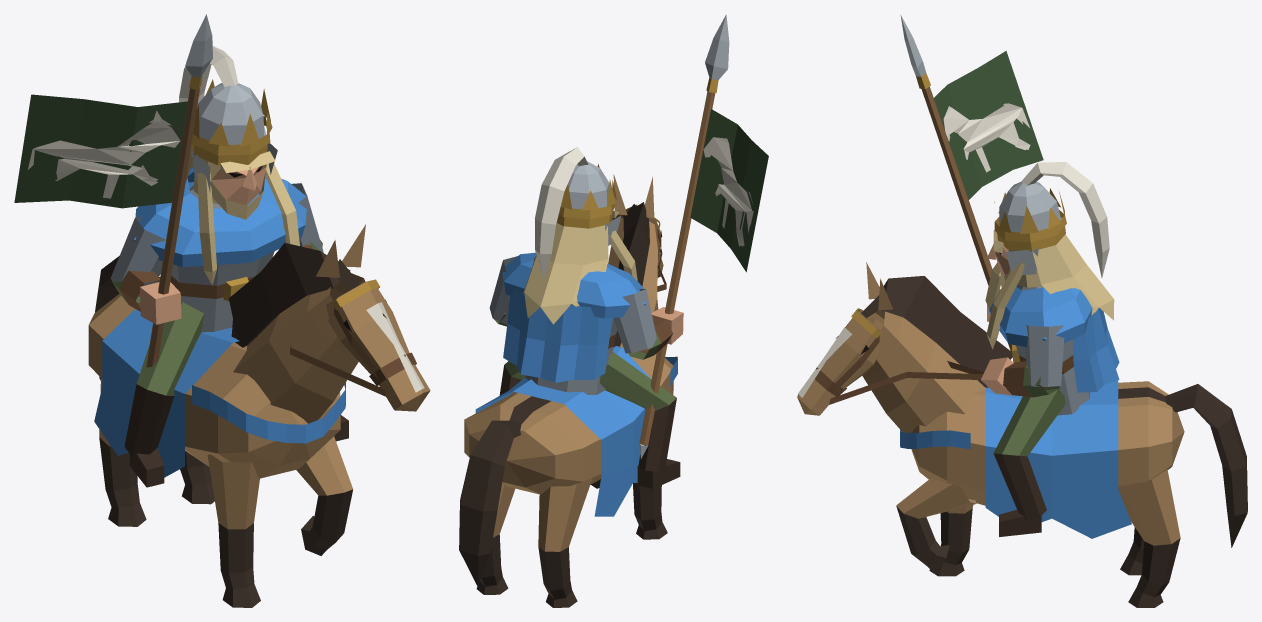
Rendered from eomer-3.glb.
The picture shows the model from 3 angles, left to right: view 1: azimuth 30°, elevation 25°; view 2: azimuth 150°, elevation 25°; view 3: azimuth 270°, elevation 25°; orthographic projection. The views are drawn at different scales.
Parts seen in each view (by area): view 1: eomer-3; view 2: eomer-3; view 3: eomer-3.
Boxes of the visible parts, <box> form: eomer-3: <box>14,14,430,607</box>; eomer-3: <box>459,14,768,607</box>; eomer-3: <box>797,14,1247,607</box>.
Size of the model in its own units: 1.12 by 2.12 by 1.63.
